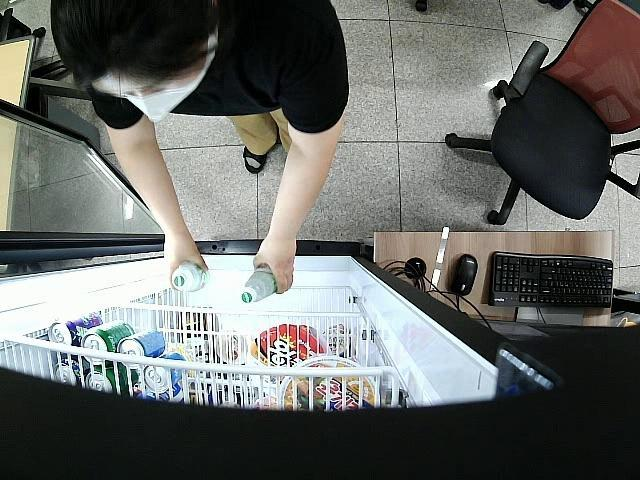18_trevi: (237, 267, 277, 307), (166, 262, 210, 295)
